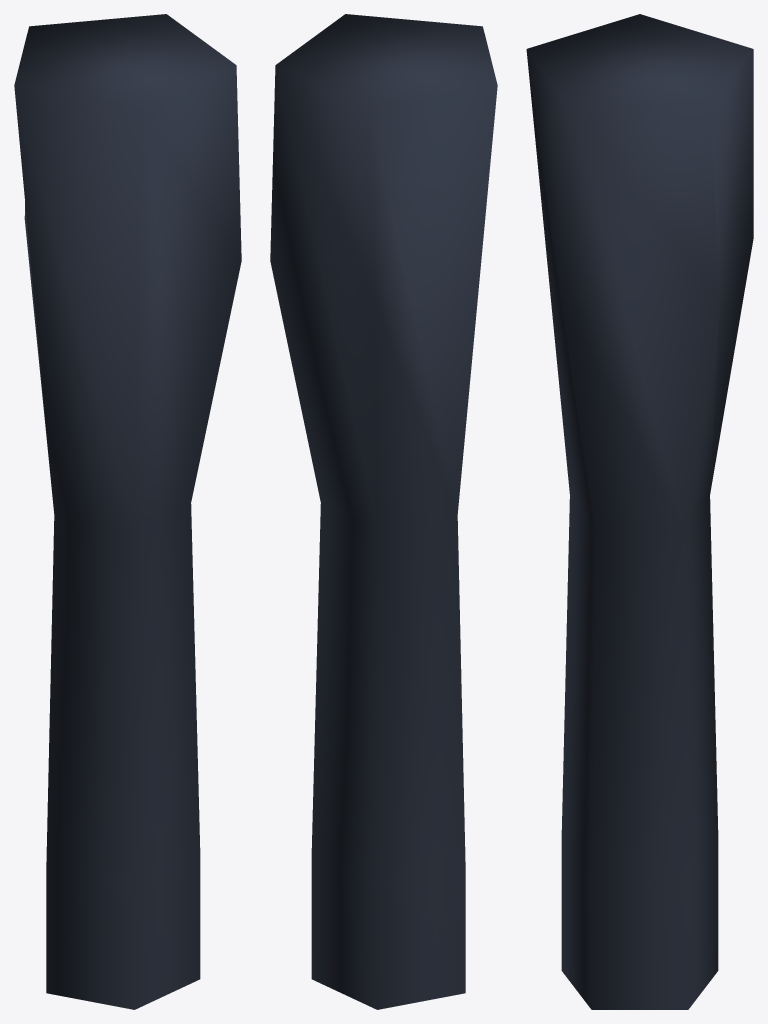
File: animal_megascarab_leg.obj
3 renders of one model, left to right at view 1: azimuth 30°, elevation 25°; view 2: azimuth 150°, elevation 25°; view 3: azimuth 270°, elevation 25°, orthographic.
Visible parts, largest first — view 1: animal_megascarab_leg; view 2: animal_megascarab_leg; view 3: animal_megascarab_leg.
Boxes of the visible parts, <box> form: animal_megascarab_leg: <box>14,14,241,1009</box>; animal_megascarab_leg: <box>270,14,497,1009</box>; animal_megascarab_leg: <box>526,14,753,1009</box>.
Size of the model in its own units: 0.0309 by 0.1444 by 0.0324.
